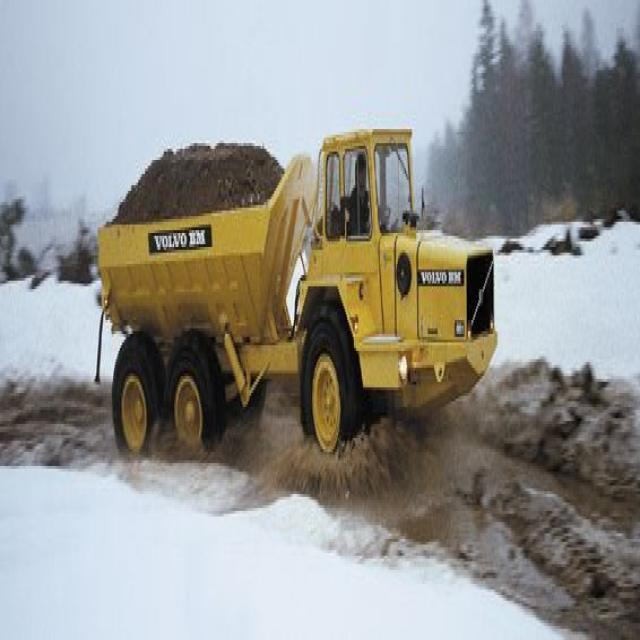dump_truck: (95, 81, 503, 480)
